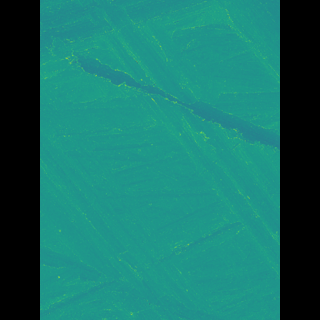Loch: (100, 0, 249, 288), (70, 74, 204, 320), (90, 44, 250, 153), (201, 0, 251, 85)
